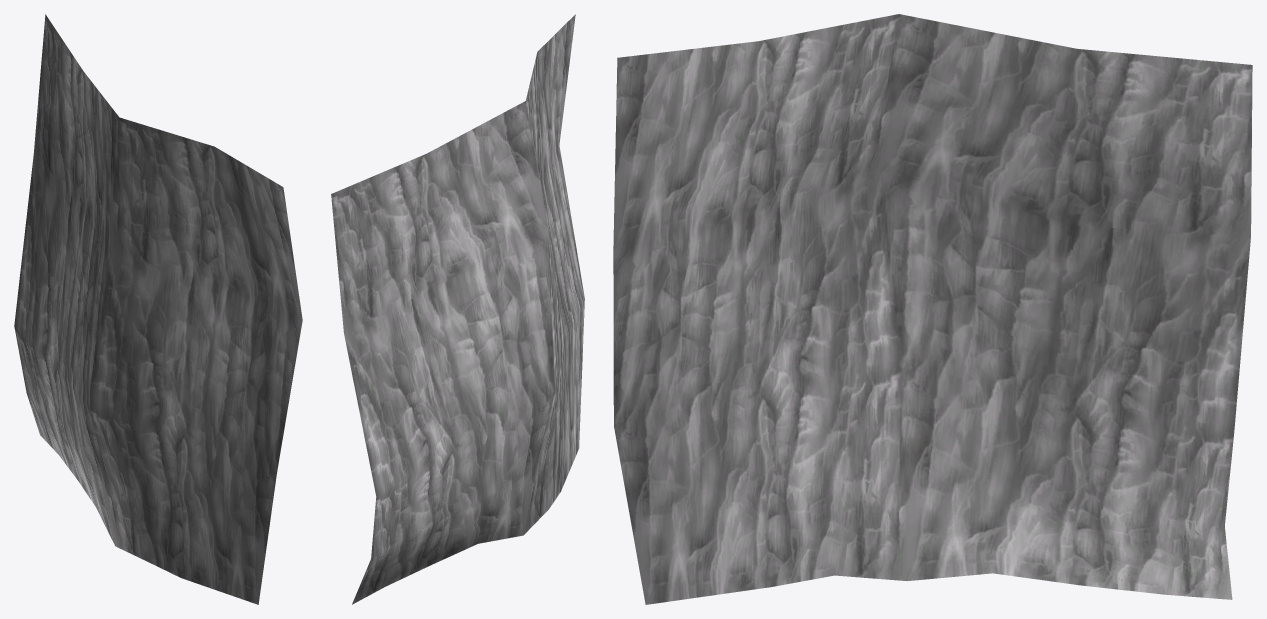
The model's file is SWORDLIGHT20_PS-AREA03_34.fbx.
3 views of the same model, side by side, from view 1: azimuth 30°, elevation 25°; view 2: azimuth 150°, elevation 25°; view 3: azimuth 270°, elevation 25° (orthographic). The views are drawn at different scales.
Visible parts, largest first — view 1: SWORDLIGHT20_PS-AREA03_34; view 2: SWORDLIGHT20_PS-AREA03_34; view 3: SWORDLIGHT20_PS-AREA03_34.
Part boxes in pixels (box(x1,y1,x2,y2)): SWORDLIGHT20_PS-AREA03_34: box(14, 14, 302, 604); SWORDLIGHT20_PS-AREA03_34: box(331, 14, 584, 604); SWORDLIGHT20_PS-AREA03_34: box(613, 14, 1252, 604).
Size of the model in its own units: 36563 by 144575 by 147470.
1 material, 1 textured.
